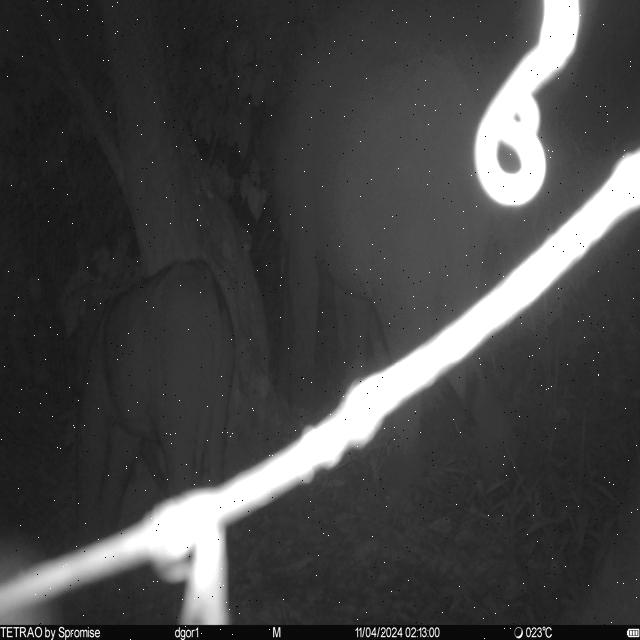calf: (74, 255, 240, 536)
elephant: (273, 38, 498, 484)
